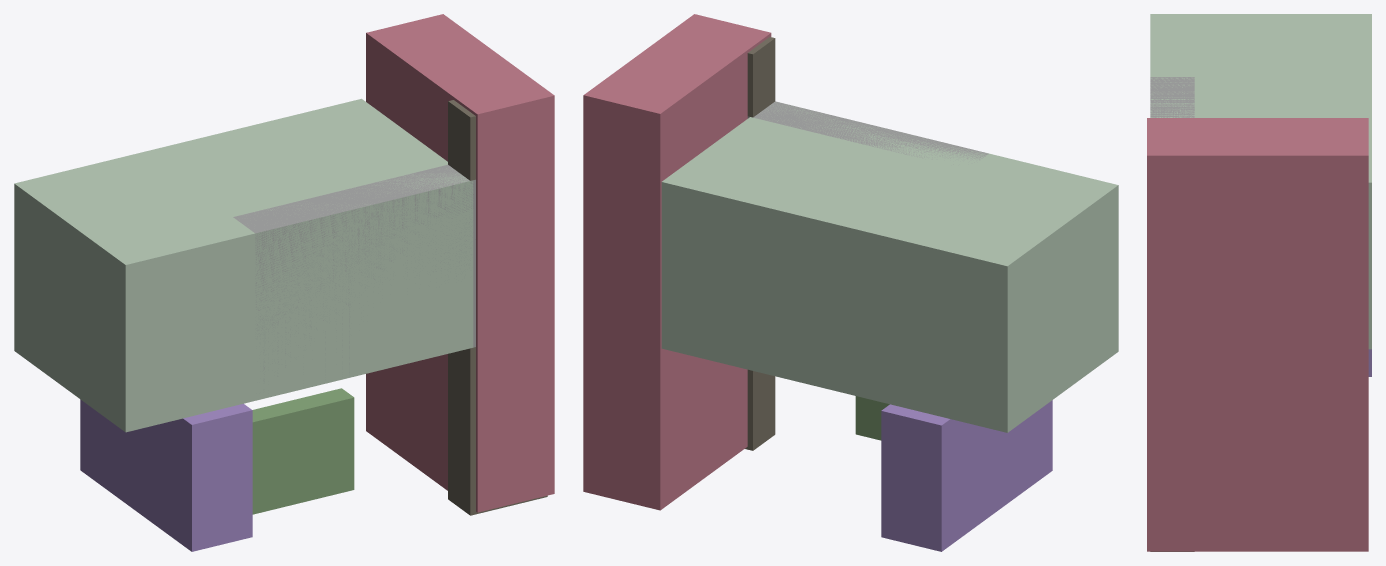
Rendered from 199515_pred.glb.
The picture shows the model from 3 angles, left to right: view 1: azimuth 30°, elevation 25°; view 2: azimuth 150°, elevation 25°; view 3: azimuth 270°, elevation 25°; orthographic projection.
Parts seen in each view (by area): view 1: world; view 2: world; view 3: world.
Boxes of the visible parts, box(x1,y1,x2,y2) form: world: box(14, 14, 554, 551); world: box(583, 14, 1118, 551); world: box(1147, 14, 1371, 551).
Size of the model in its own units: 7.75 by 6.95 by 3.55.
